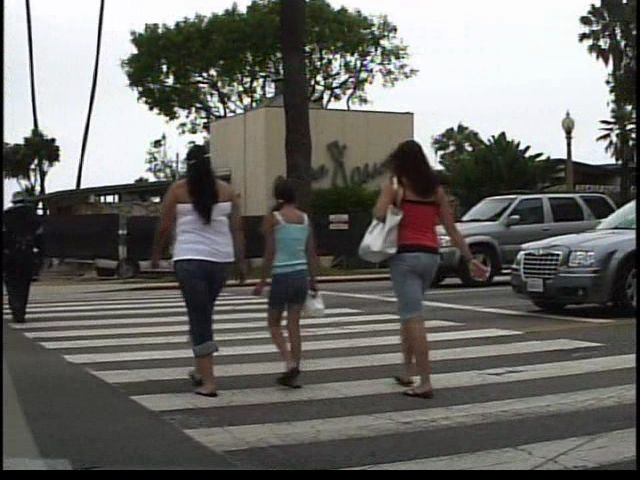person: (380, 128, 486, 396), (154, 136, 251, 406), (259, 171, 334, 395), (1, 180, 68, 331)
